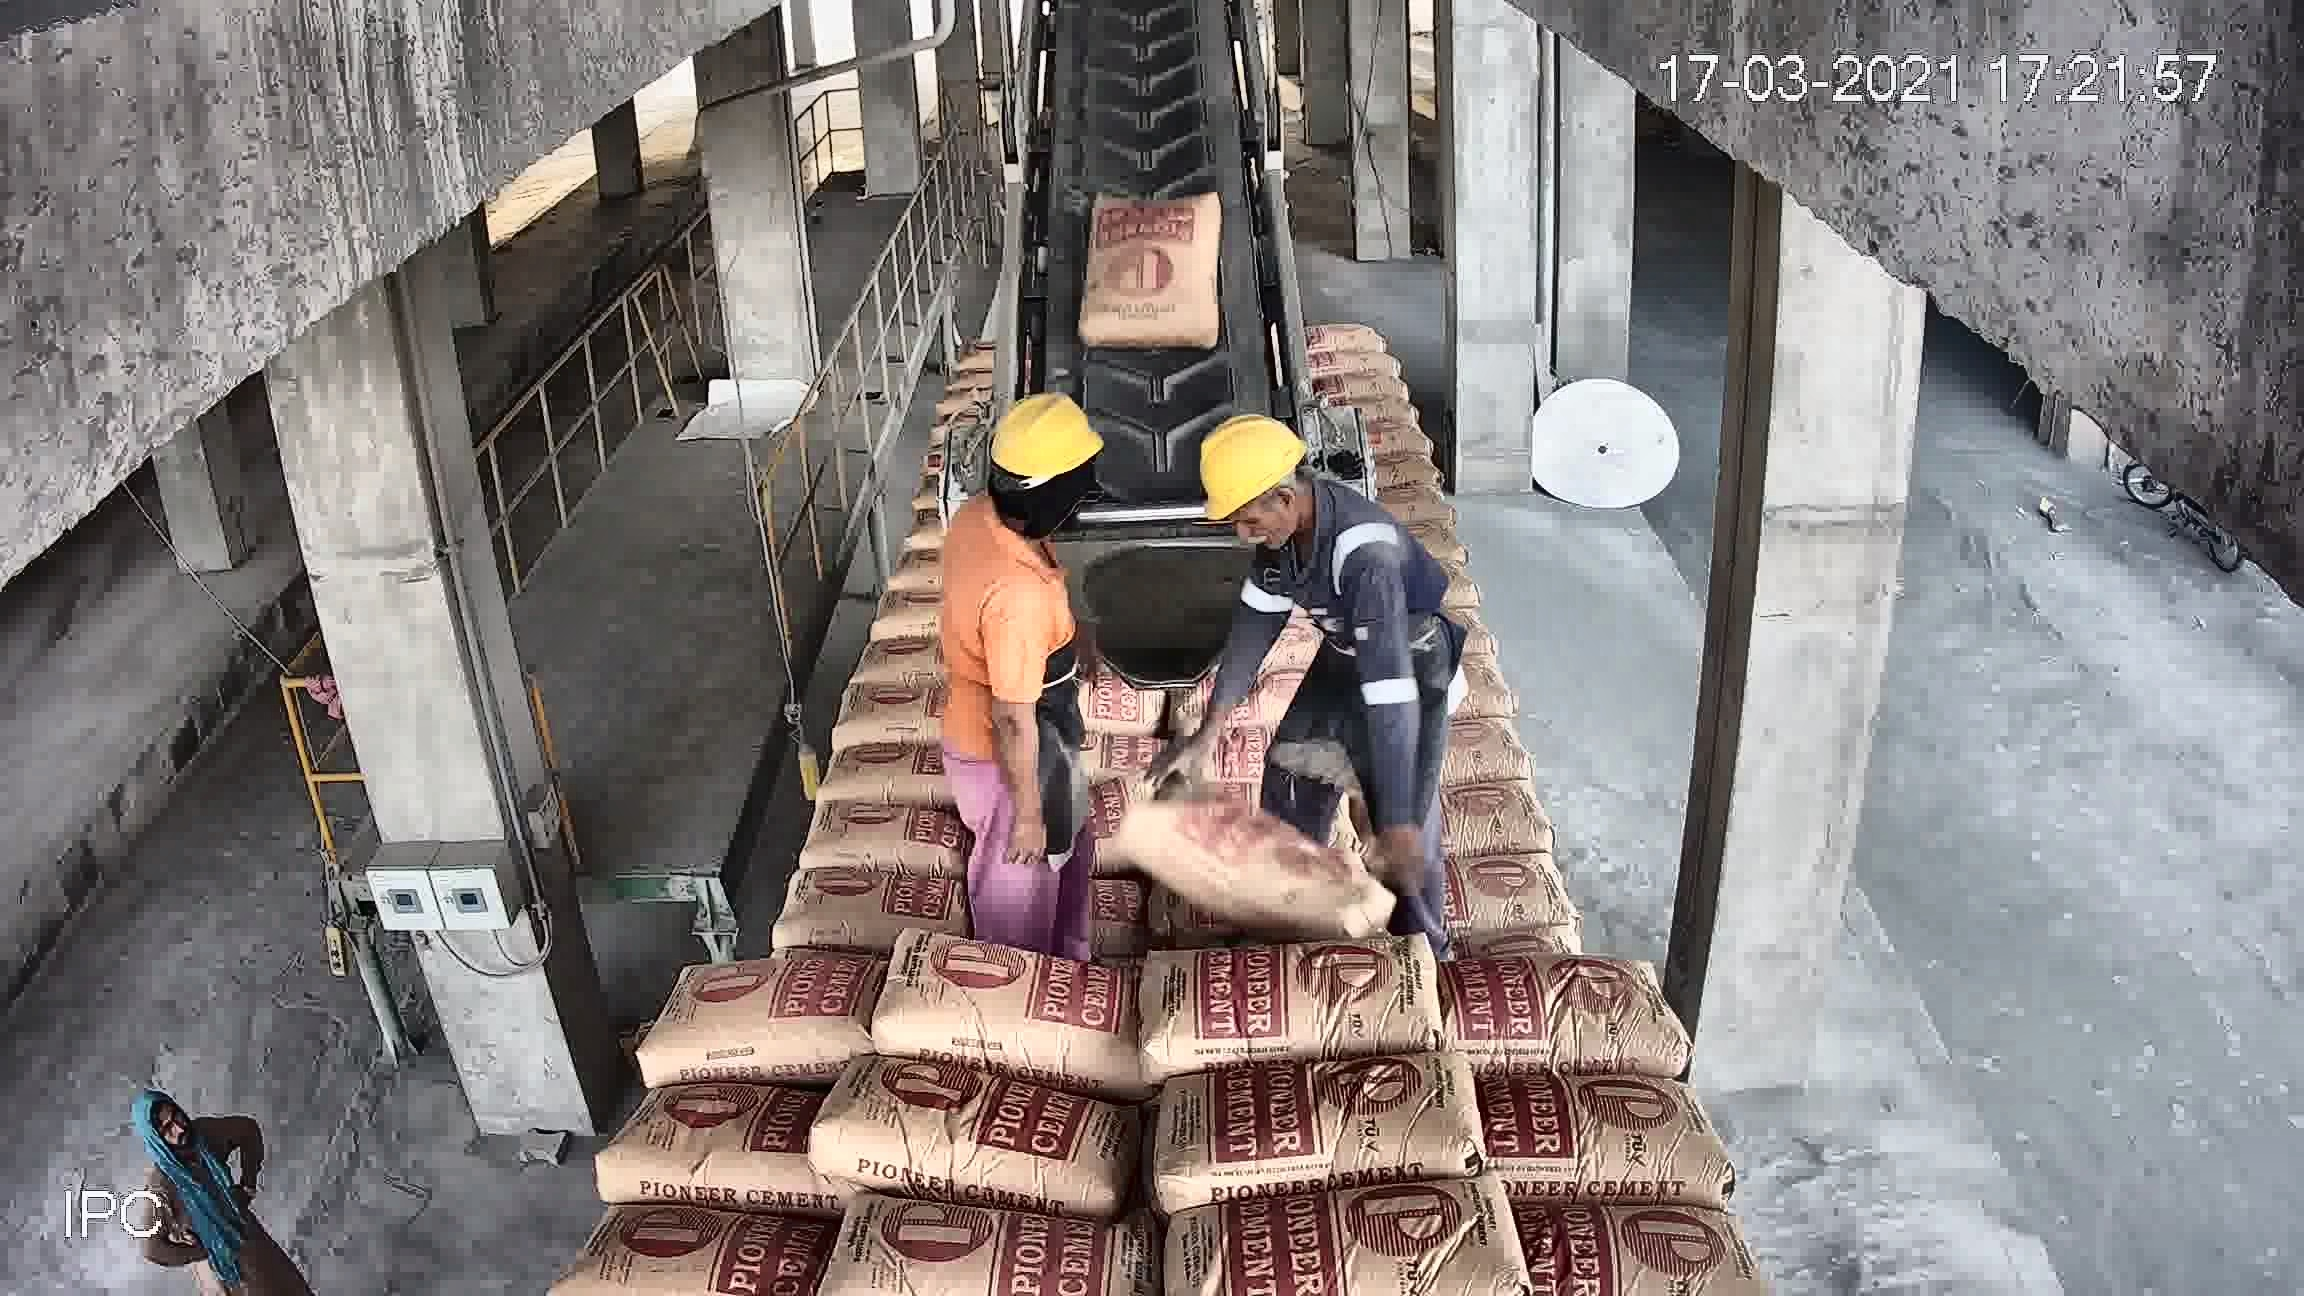bag_h: (1139, 1060, 1492, 1199), (807, 1078, 1135, 1225), (1155, 1185, 1532, 1294), (1136, 706, 1407, 851), (1135, 932, 1457, 1046), (636, 946, 873, 1086), (1163, 836, 1435, 949), (881, 840, 1149, 954), (1435, 946, 1679, 1071), (870, 954, 1128, 1068), (597, 1074, 812, 1203), (1506, 1076, 1737, 1195), (815, 1225, 1161, 1296), (1510, 1199, 1780, 1287), (687, 853, 889, 967), (902, 753, 1135, 850), (1374, 859, 1630, 943), (714, 766, 896, 877), (1396, 777, 1598, 873), (544, 1214, 831, 1275), (1176, 647, 1309, 726), (1185, 548, 1323, 620), (1179, 517, 1332, 582), (1003, 658, 1174, 715), (1021, 578, 1166, 642), (1010, 718, 1158, 777), (1168, 609, 1309, 665), (1006, 628, 1157, 668), (904, 532, 1029, 579), (1044, 536, 1177, 578), (916, 470, 1010, 506), (910, 514, 1032, 541), (927, 440, 1014, 476)
belt: (1013, 0, 1301, 517)
